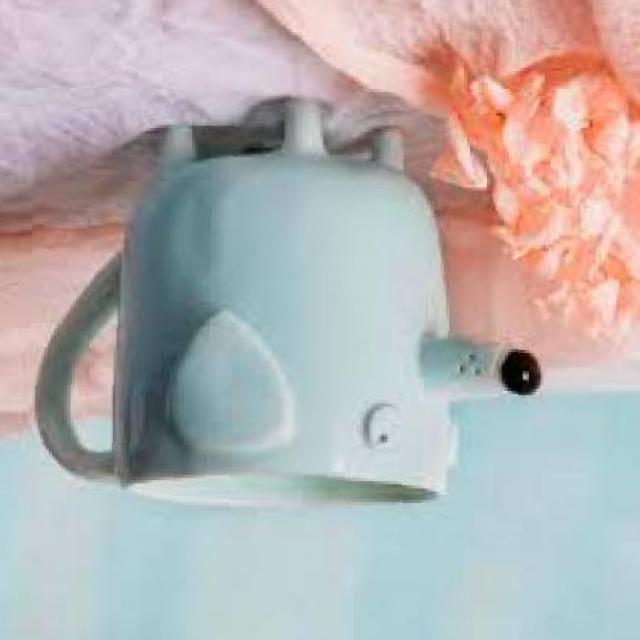cup: (27, 88, 551, 515)
